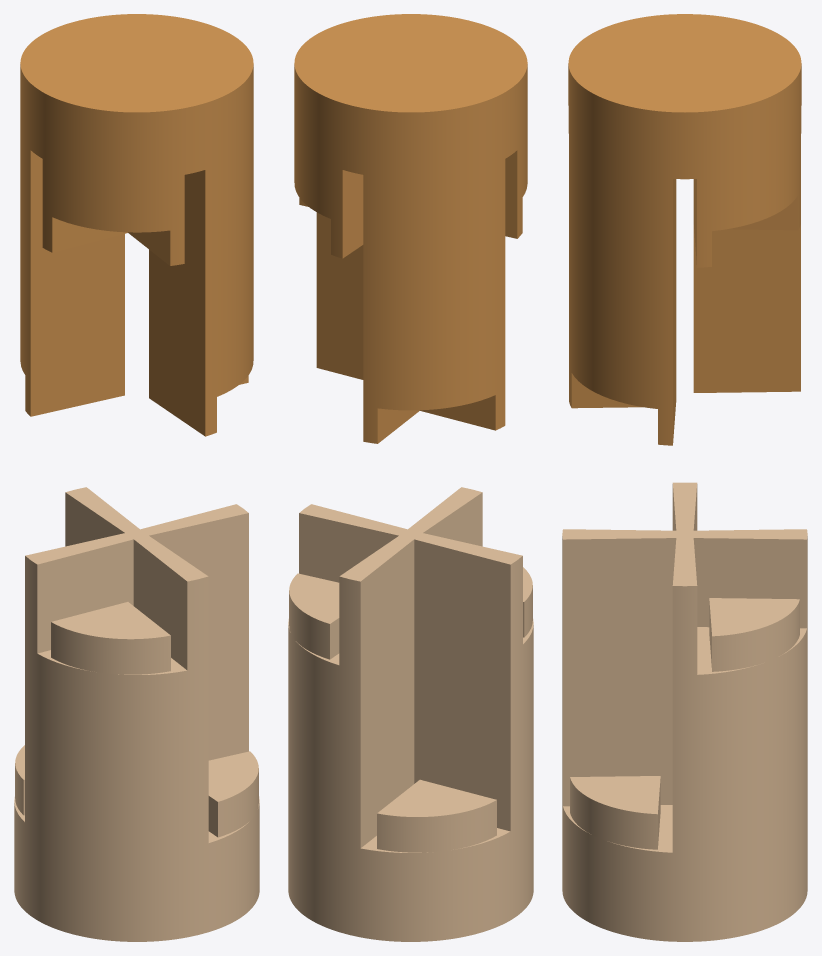
3 views of the same model, side by side, from view 1: azimuth 30°, elevation 25°; view 2: azimuth 150°, elevation 25°; view 3: azimuth 270°, elevation 25° (orthographic).
Bounding box in the file's own units: 1 × 3.72 × 1.
